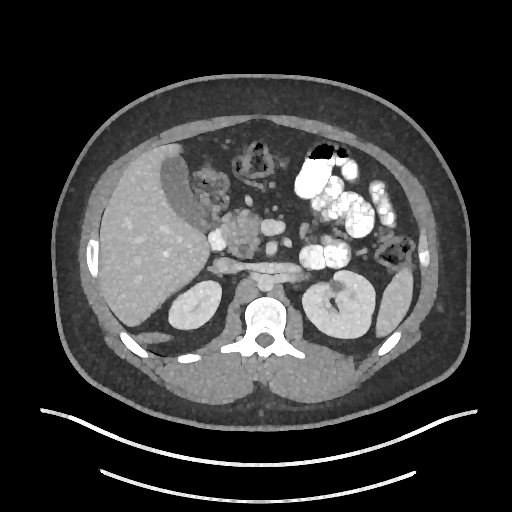Lesion: (325, 276, 348, 296)
